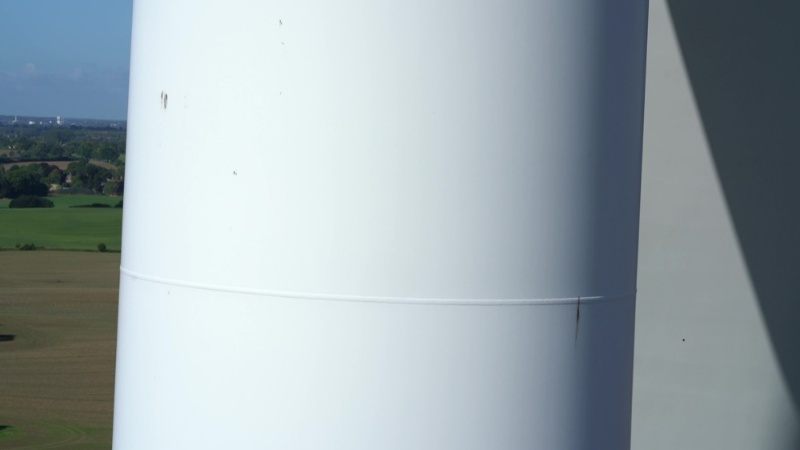weldseam: (118, 262, 639, 309)
